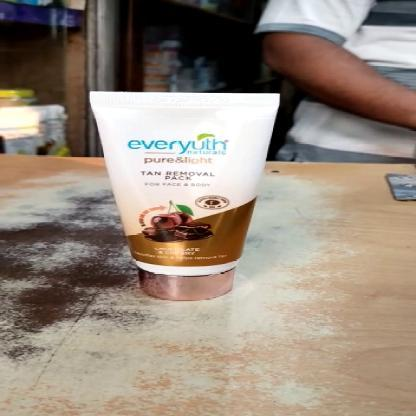EY TAN CHOCO CHERRY PACK 50G: (92, 94, 276, 299)
